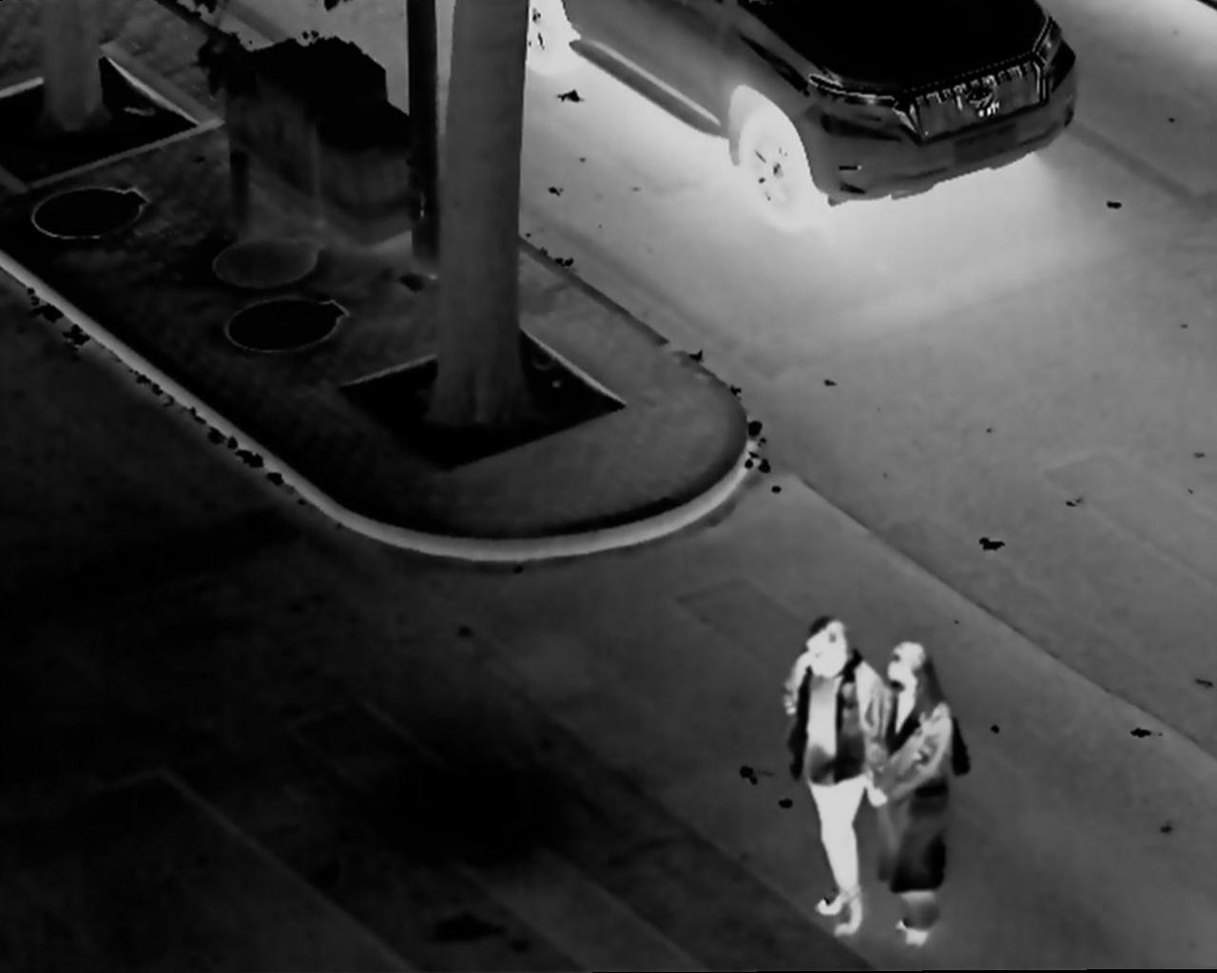person: (781, 618, 889, 947), (879, 642, 984, 955)
